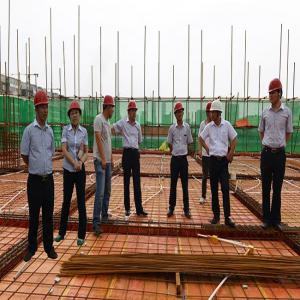red: (35, 90, 52, 126), (102, 93, 117, 123), (268, 78, 284, 106), (68, 102, 83, 129), (173, 102, 186, 123), (127, 100, 139, 122), (206, 102, 214, 121)
white: (211, 100, 223, 123)
